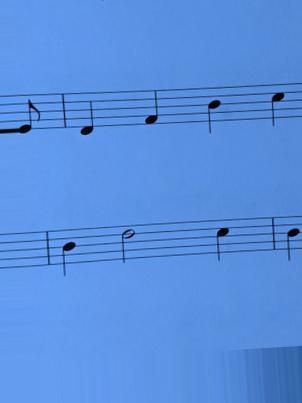B: (54, 227, 81, 278), (202, 86, 226, 136), (280, 213, 302, 265)
D: (75, 89, 98, 139)
F: (140, 86, 162, 131)
HC: (268, 77, 288, 131), (211, 215, 233, 263)
